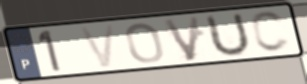1: (36, 28, 65, 74)
C: (249, 9, 293, 54)
O: (123, 21, 166, 65)
U: (205, 11, 253, 60)
V: (159, 14, 202, 63), (76, 22, 118, 70)
